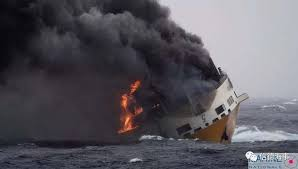fire: (116, 72, 149, 135)
